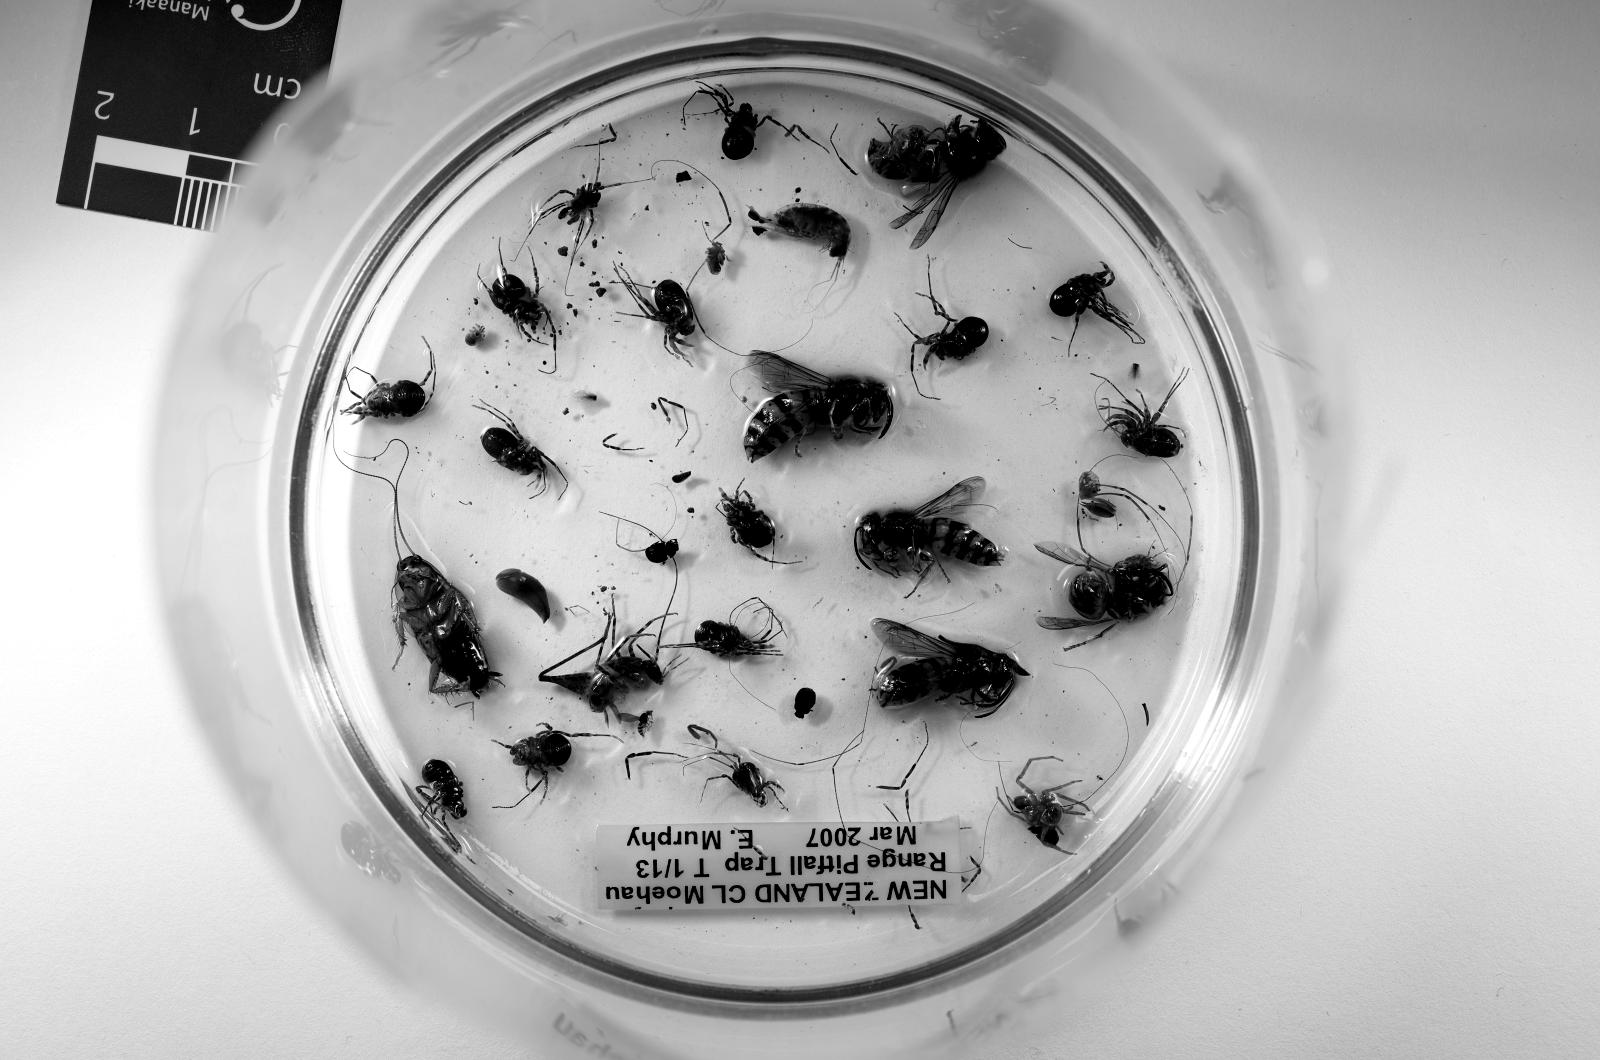amphipoda: (769, 202, 850, 279)
araneae: (1000, 757, 1088, 854)
blattodea: (394, 552, 500, 696)
coleoptera: (643, 541, 678, 565), (793, 690, 816, 717)
diptera: (618, 711, 653, 736)
opiliones: (909, 273, 987, 373), (1050, 264, 1144, 344), (616, 264, 697, 357), (485, 252, 556, 351), (540, 161, 622, 239), (715, 487, 793, 565), (697, 84, 772, 161), (481, 409, 556, 487), (503, 724, 575, 799), (694, 600, 784, 658), (1100, 397, 1181, 459), (415, 757, 466, 851), (710, 749, 784, 807), (344, 379, 428, 419), (1078, 472, 1149, 518), (706, 239, 728, 277)
orthoptera: (538, 600, 669, 715)
vespidae: (869, 115, 1006, 248), (744, 351, 894, 463), (853, 478, 1006, 584), (872, 618, 1028, 715), (1037, 541, 1172, 631)
